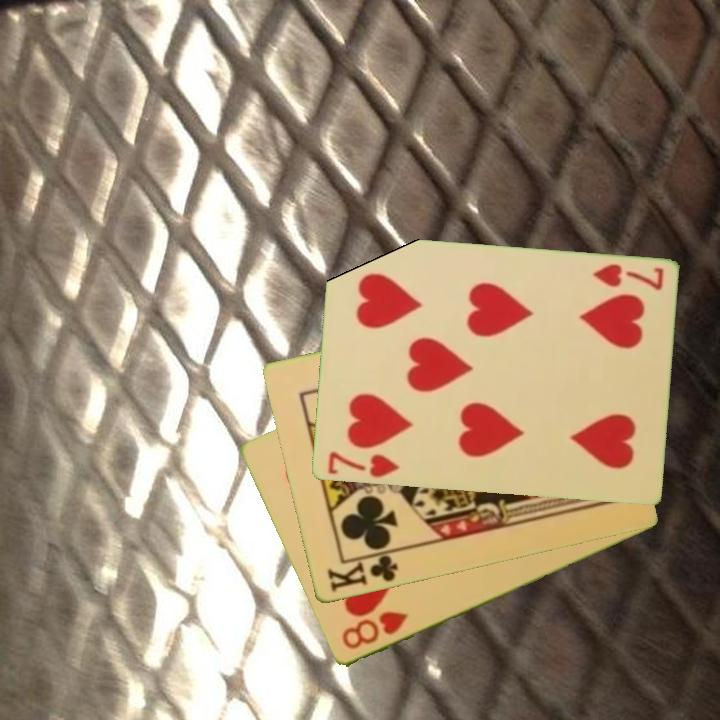7h: (588, 260, 666, 293), (324, 449, 401, 481)
8h: (338, 608, 412, 653)
Kc: (323, 548, 401, 595)
